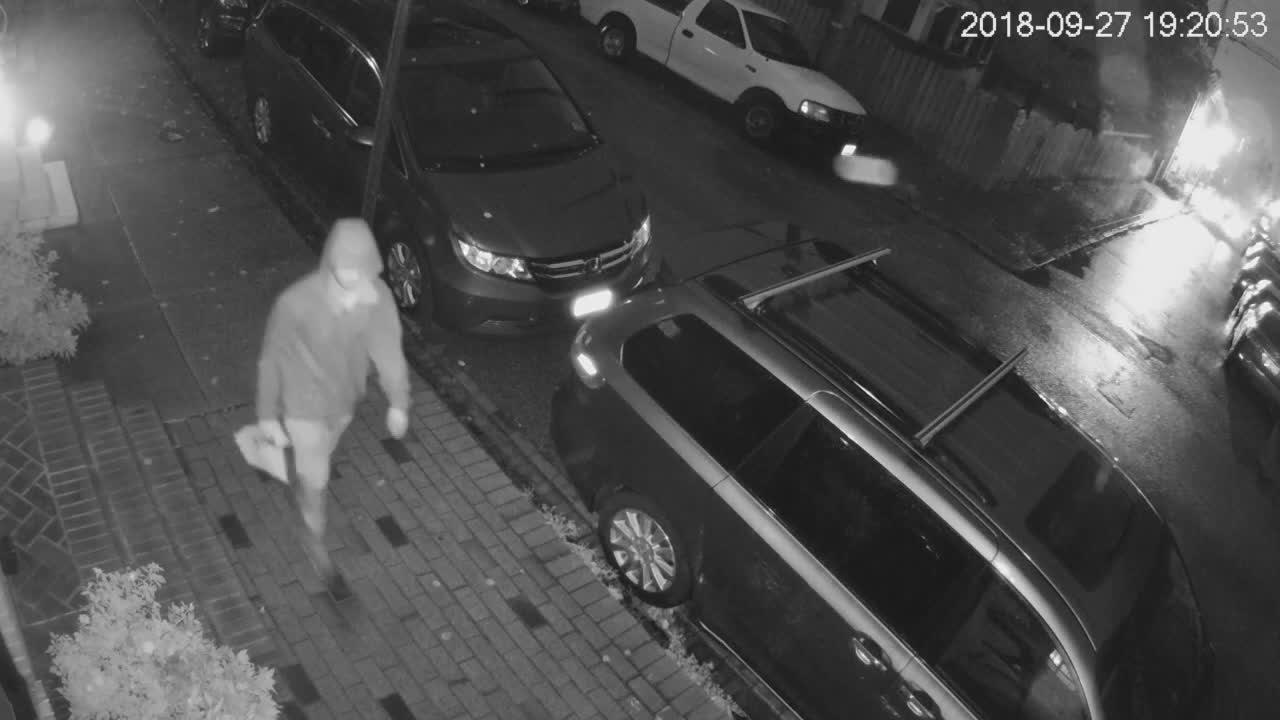Person: (247, 213, 432, 613)
